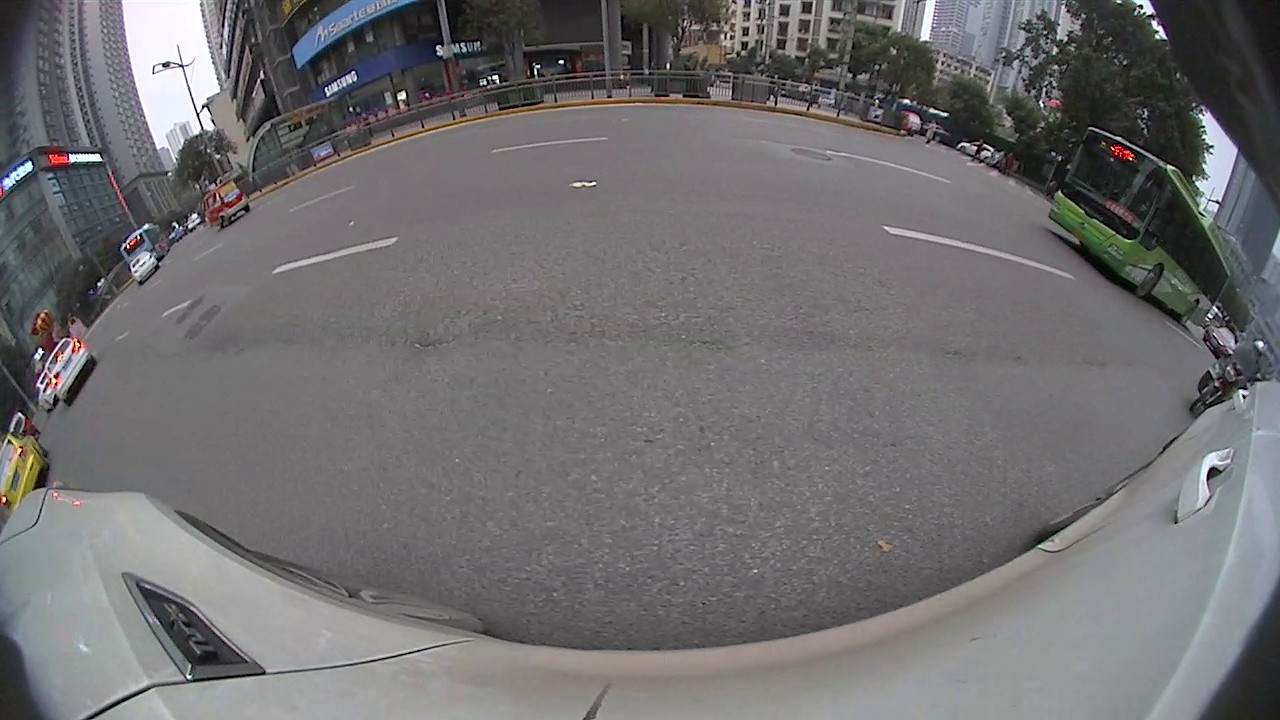bus: (1047, 125, 1232, 328), (120, 222, 171, 268)
car: (0, 434, 48, 520), (41, 338, 101, 406), (1203, 320, 1241, 356), (129, 250, 161, 284), (33, 371, 59, 411), (8, 413, 38, 438)
front: (1135, 260, 1166, 301)
rear: (1178, 297, 1201, 327), (218, 213, 233, 228)
rider: (1189, 337, 1271, 417), (200, 183, 251, 226)
